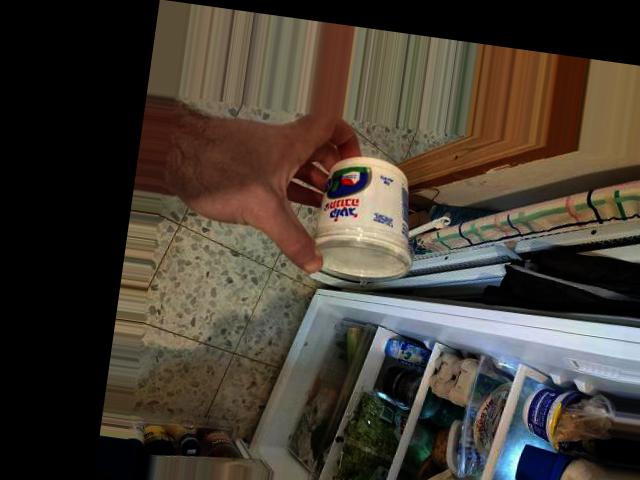cotage: (302, 146, 425, 284)
